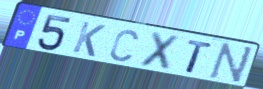5: (35, 12, 74, 52)
C: (109, 28, 141, 63)
K: (69, 20, 108, 59)
N: (206, 42, 256, 86)
T: (184, 38, 215, 75)
X: (137, 30, 183, 73)
